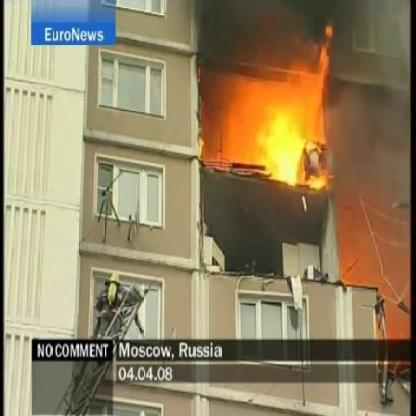fire: (258, 23, 336, 188)
